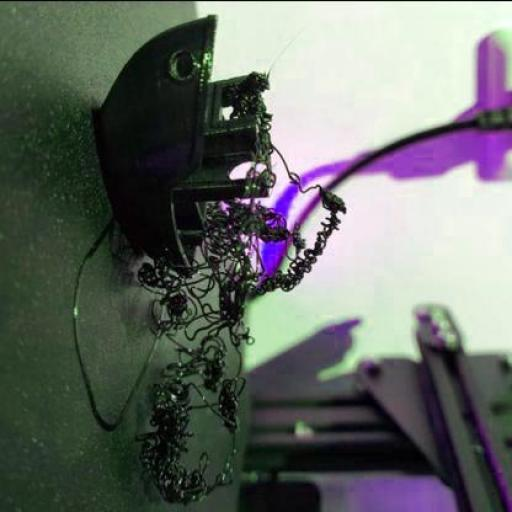spaghetti: (136, 159, 349, 506), (225, 71, 275, 155)
